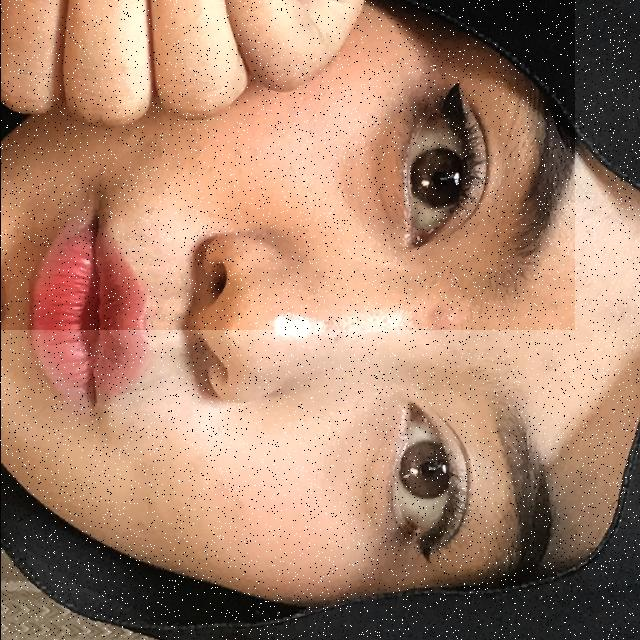sedih: (0, 0, 574, 330)
